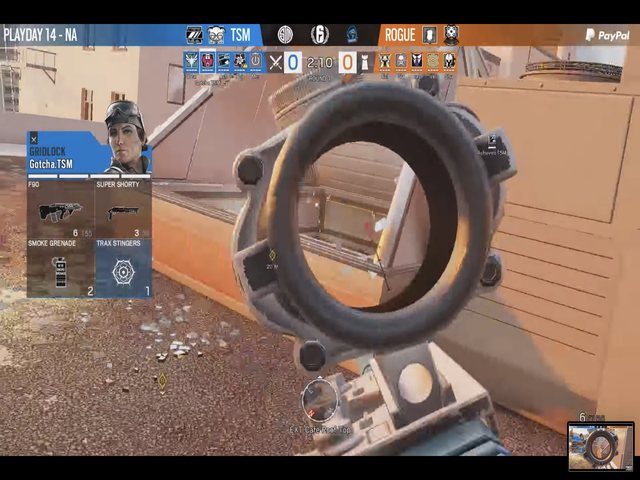0_blue: (283, 49, 303, 75)
